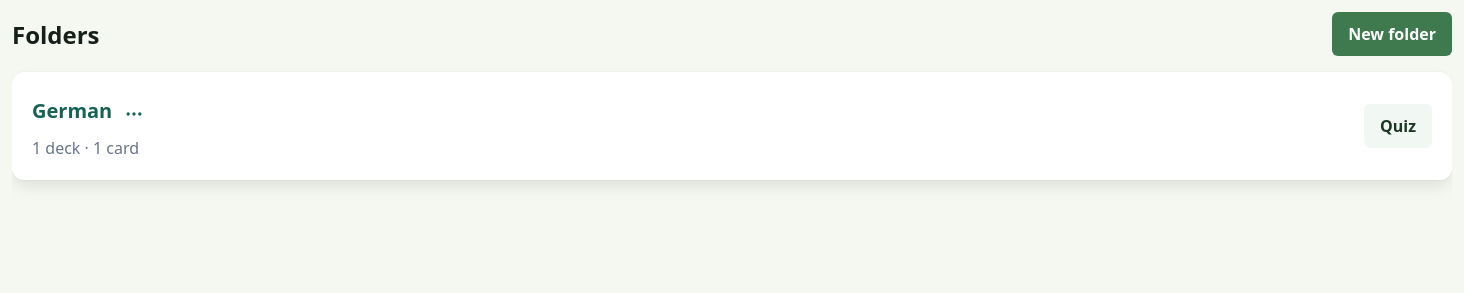
it: FoldersView › keeps rename and delete behind the row menu, leaving Quiz on the row
Expected: the button with test id "folder-quiz" is shown, [1364,104,1432,148]
Click the button with test id "folder-menu" at (134, 114), box [112,92,156,136]
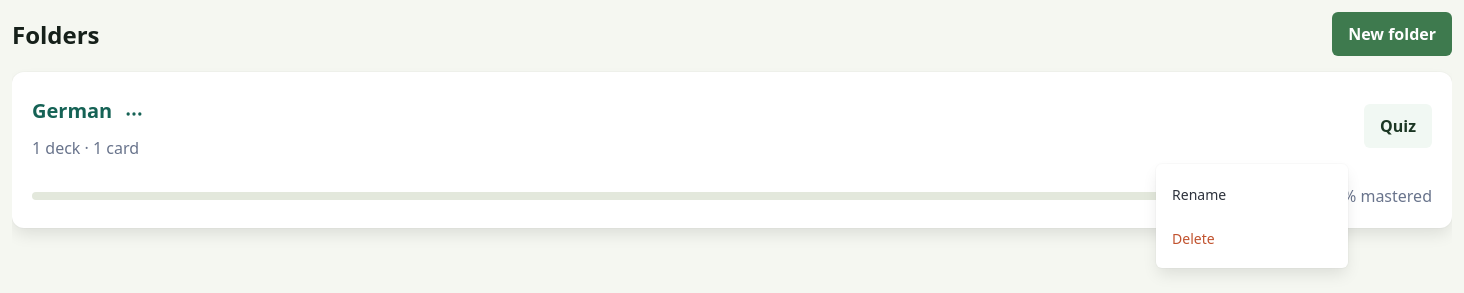
Result: the button with test id "folder-rename" is shown at [1156,172,1348,216]
Result: the button with test id "folder-delete" is shown at [1156,216,1348,260]
